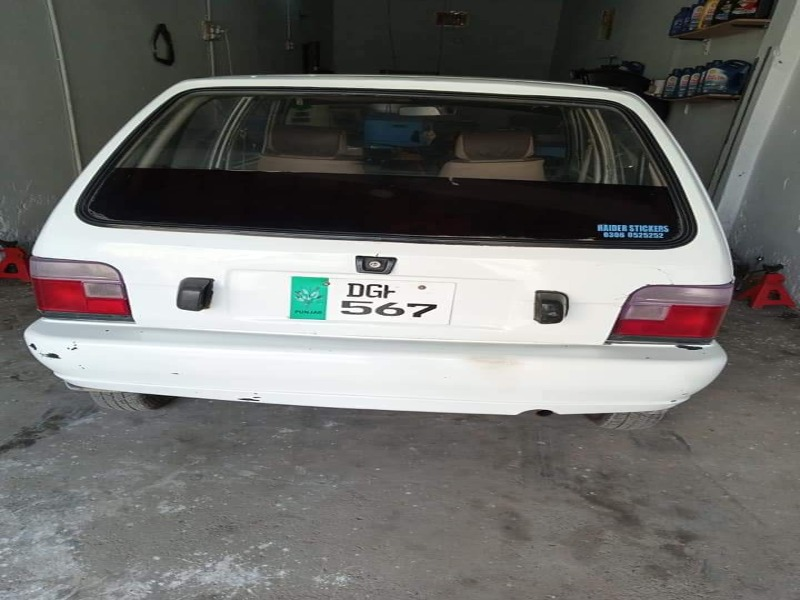License Plate: (287, 272, 460, 334)
